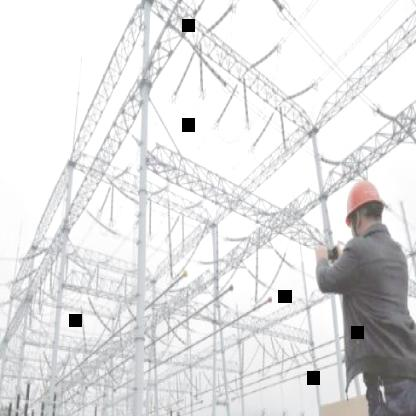helmet: (340, 175, 390, 245)
